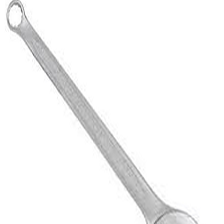wrench: (7, 2, 199, 224)
